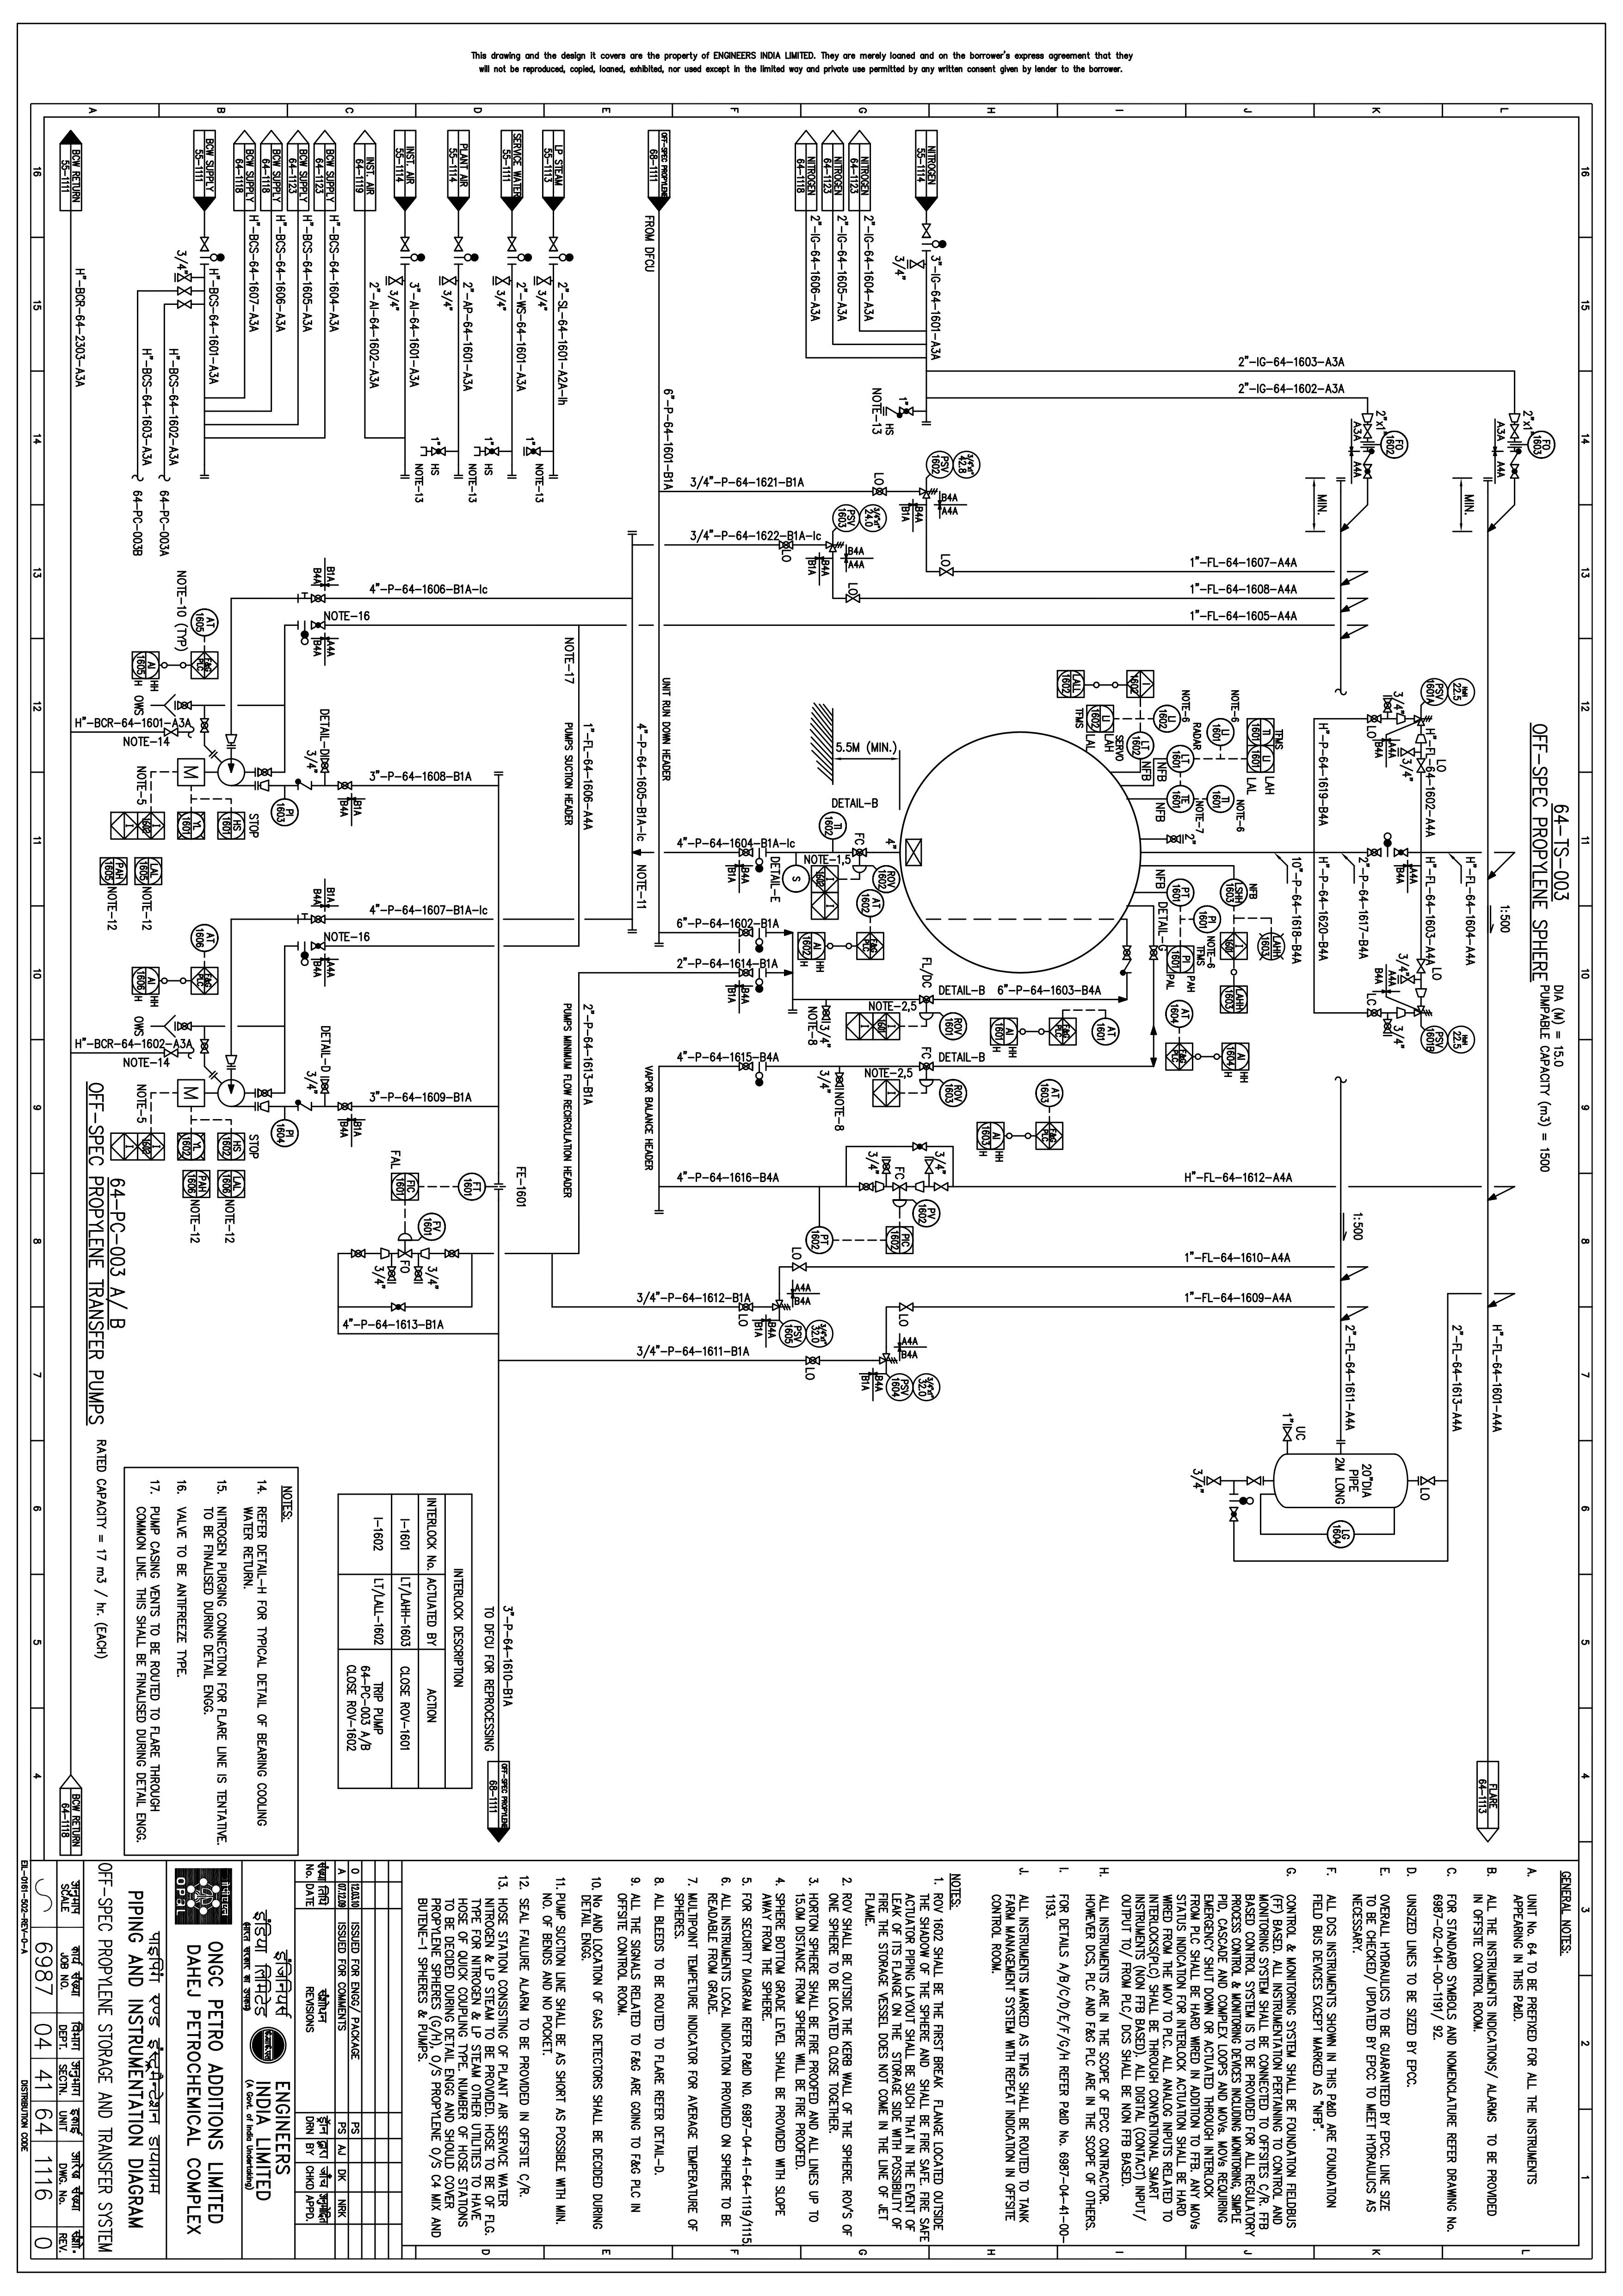ball valve: (411, 437, 451, 464), (880, 399, 920, 422), (451, 232, 481, 262), (497, 232, 525, 256), (467, 444, 506, 462), (430, 272, 462, 293), (381, 267, 408, 292), (1226, 1502, 1245, 1535), (195, 469, 220, 494), (385, 1293, 411, 1314), (1360, 843, 1386, 864), (292, 776, 320, 796), (488, 271, 513, 292), (1412, 1001, 1433, 1026), (1414, 1470, 1439, 1491), (399, 230, 418, 256), (1361, 710, 1388, 729), (249, 764, 278, 782), (197, 230, 213, 260), (527, 274, 557, 290), (1198, 1476, 1228, 1491), (165, 300, 198, 314), (167, 271, 198, 285), (332, 776, 360, 792), (318, 747, 334, 775), (288, 1098, 316, 1114), (543, 232, 562, 255), (915, 220, 934, 242), (905, 255, 927, 274), (221, 1051, 241, 1073), (936, 564, 961, 581), (873, 1349, 898, 1367), (906, 1137, 931, 1154), (817, 1000, 834, 1024), (1242, 1472, 1266, 1490), (518, 444, 548, 458), (1509, 458, 1525, 485), (248, 780, 274, 796), (764, 1298, 790, 1314), (1393, 970, 1419, 986), (307, 587, 328, 606), (1163, 829, 1184, 848), (1409, 954, 1428, 975), (255, 1086, 278, 1103), (891, 1191, 913, 1209), (1407, 731, 1430, 748), (306, 940, 330, 956), (799, 1353, 824, 1368), (1145, 940, 1161, 964), (1381, 689, 1393, 720), (854, 1177, 873, 1196), (170, 1019, 197, 1033), (393, 1230, 420, 1244), (934, 1180, 956, 1198), (734, 1059, 755, 1077), (850, 861, 871, 878), (734, 964, 755, 982), (1280, 1419, 1295, 1446), (197, 715, 213, 738), (736, 1300, 759, 1316), (789, 1260, 811, 1275), (1412, 713, 1435, 729), (344, 1249, 372, 1261), (1381, 1017, 1393, 1045), (1414, 752, 1428, 776), (307, 912, 328, 928), (917, 1073, 938, 1089), (1391, 1007, 1412, 1022), (169, 699, 195, 711), (775, 539, 797, 553), (913, 487, 936, 501), (413, 1265, 427, 1288), (922, 1154, 936, 1177), (1119, 940, 1133, 963), (332, 1101, 362, 1112), (1398, 743, 1416, 761), (845, 592, 864, 608), (824, 539, 843, 555), (869, 483, 889, 499), (620, 525, 639, 541), (162, 726, 181, 741), (223, 733, 239, 752), (318, 1077, 334, 1096), (416, 1244, 432, 1263), (876, 1154, 892, 1173), (1412, 984, 1432, 1000), (1395, 708, 1410, 727), (385, 1261, 397, 1286), (915, 1010, 940, 1022), (1331, 469, 1345, 490), (441, 1247, 462, 1261), (848, 845, 869, 859), (917, 993, 938, 1007), (167, 288, 200, 297), (307, 618, 330, 631), (1389, 845, 1412, 857), (374, 1245, 390, 1263), (1361, 462, 1375, 481), (251, 1101, 270, 1116), (908, 1179, 927, 1193), (734, 847, 755, 859), (1505, 409, 1521, 425), (894, 1177, 908, 1195), (1363, 1007, 1386, 1017), (896, 1302, 915, 1314), (875, 1179, 887, 1198), (834, 1068, 847, 1087), (734, 928, 754, 940), (1358, 409, 1374, 423), (395, 1249, 416, 1260), (198, 1038, 211, 1056), (917, 1061, 934, 1073), (162, 1047, 181, 1058), (1347, 443, 1358, 460), (1490, 444, 1500, 462), (734, 861, 745, 870)
